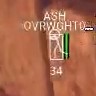hacks_1: (23, 10, 80, 76)
